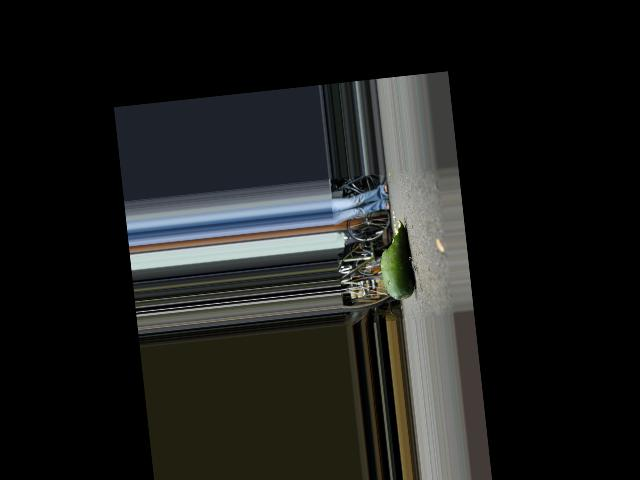cucumber: (376, 217, 416, 301)
